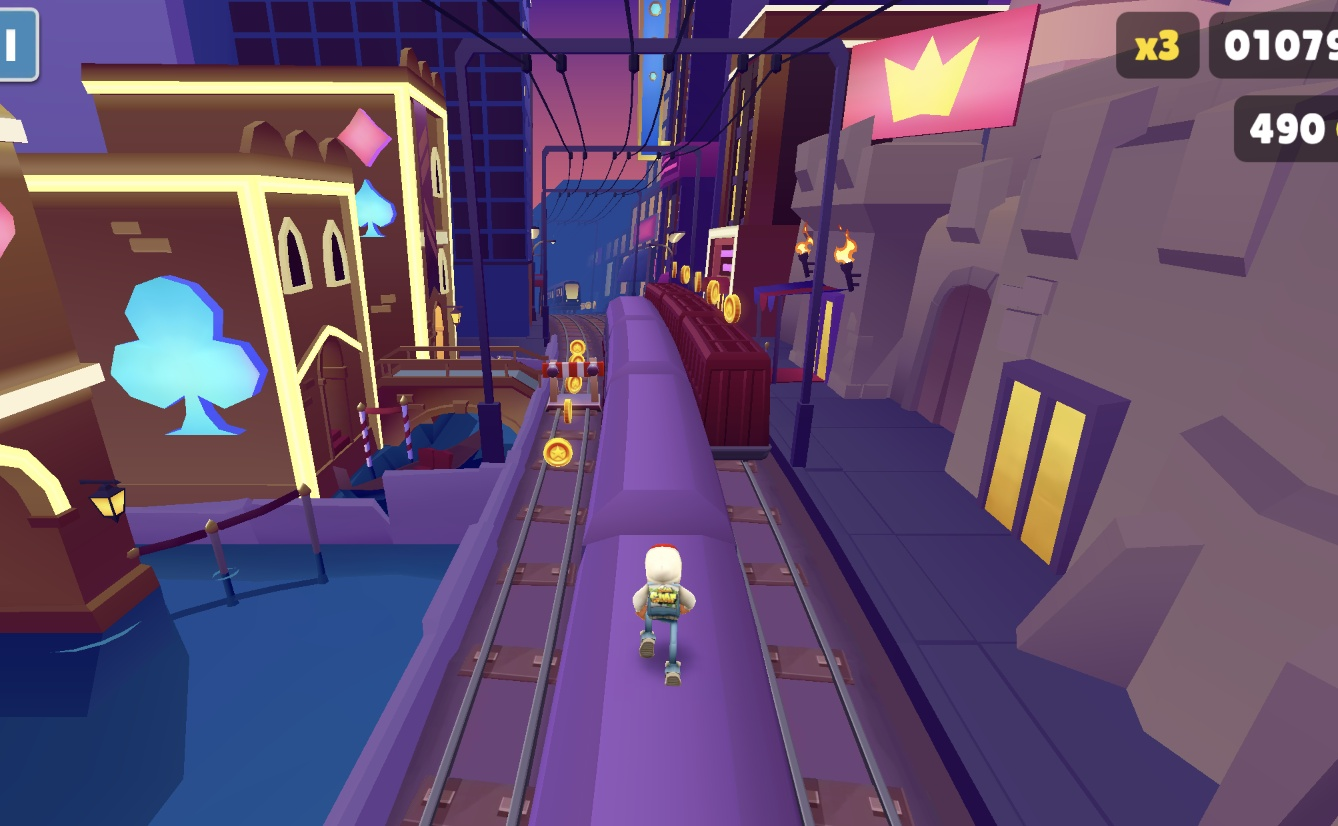train: (524, 275, 806, 826), (667, 282, 771, 454)
